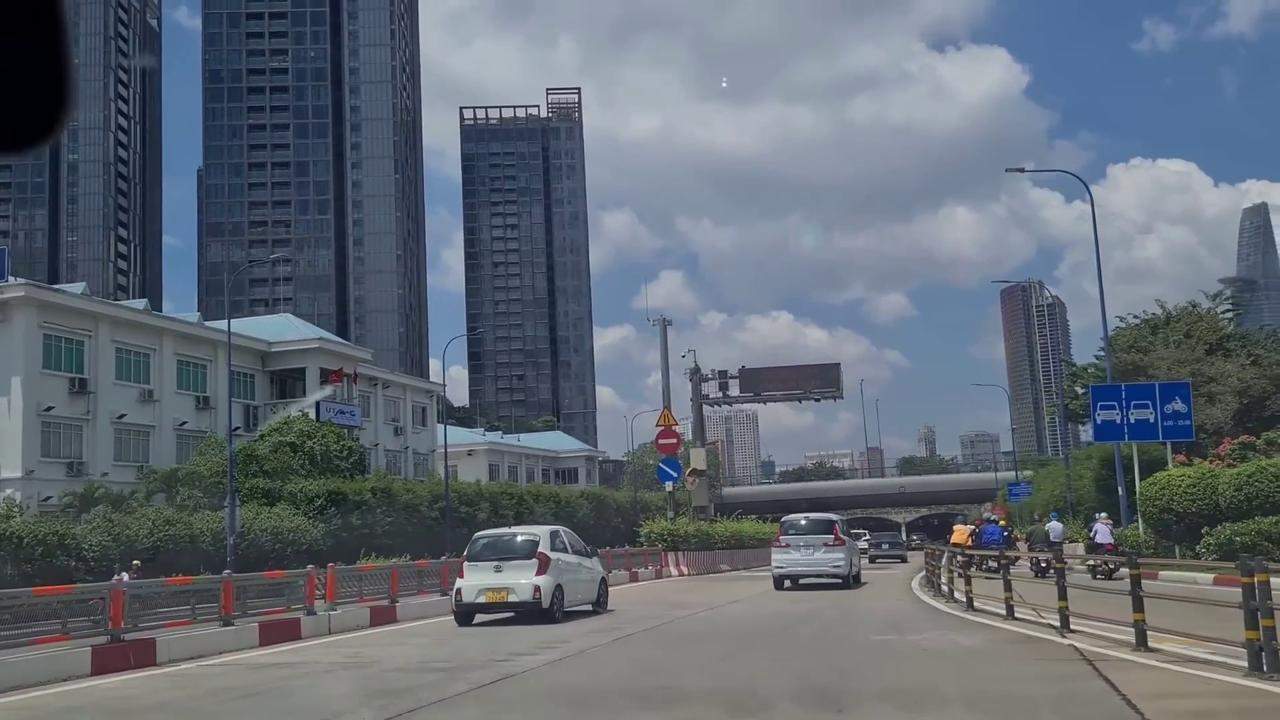Cấm đi ngược chiều: (654, 428, 684, 457)
Hướng phải đi vòng sang phải: (654, 457, 682, 485)
Làn đường cho từng xe: (1087, 378, 1197, 444)
Đuờng hẹp: (654, 406, 682, 428)
